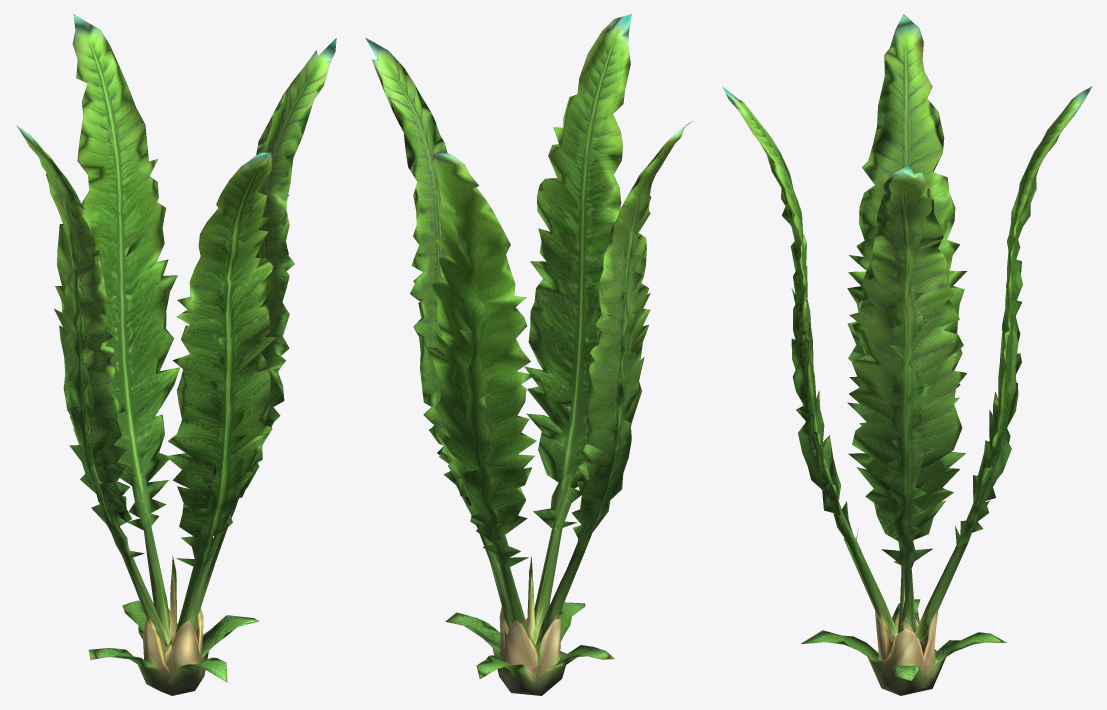
The picture shows the model from 3 angles, left to right: view 1: azimuth 30°, elevation 25°; view 2: azimuth 150°, elevation 25°; view 3: azimuth 270°, elevation 25°; orthographic projection.
Visible parts, largest first — view 1: Mesh_0; view 2: Mesh_0; view 3: Mesh_0.
Boxes of the visible parts, left/top/right/bottom form: Mesh_0: left=15, top=14, right=336, bottom=695; Mesh_0: left=365, top=14, right=692, bottom=695; Mesh_0: left=722, top=14, right=1092, bottom=695.
Size of the model in its own units: 1.06 by 1.91 by 1.06.
Materials: 1 (1 with a texture image).
